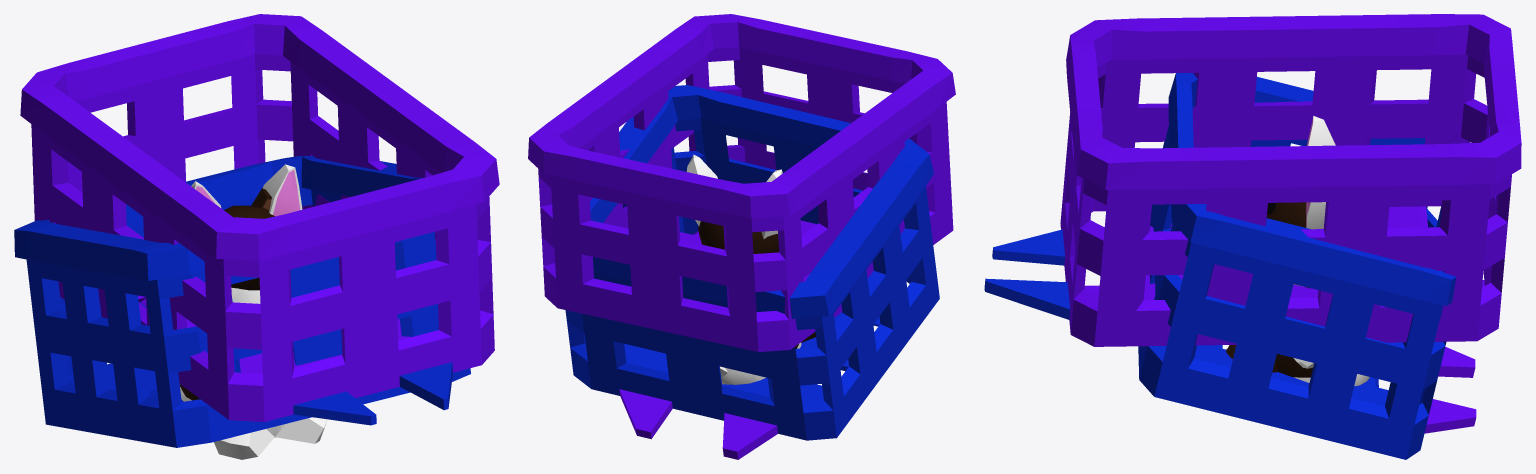
File: misc_models.FBX
3 views of the same model, side by side, from view 1: azimuth 30°, elevation 25°; view 2: azimuth 150°, elevation 25°; view 3: azimuth 270°, elevation 25° (orthographic). The views are drawn at different scales.
Visible parts, largest first — view 1: backmisc, frontmisc, bunnyback, teddyback; view 2: backmisc, frontmisc, teddyback, bunnyback; view 3: backmisc, frontmisc, teddyback, bunnyback.
Part boxes in pixels (box(x1,y1,x2,y2)): backmisc: box(20, 14, 499, 425); frontmisc: box(14, 155, 470, 447); bunnyback: box(180, 164, 327, 459); teddyback: box(179, 188, 274, 400); backmisc: box(528, 14, 955, 351); frontmisc: box(565, 85, 939, 459); teddyback: box(698, 221, 815, 348); bunnyback: box(686, 154, 801, 384); backmisc: box(984, 14, 1521, 346); frontmisc: box(1138, 73, 1476, 459); teddyback: box(1226, 202, 1313, 377); bunnyback: box(1226, 116, 1369, 386).
Size of the model in its own units: 31.2 by 29.72 by 44.15.
